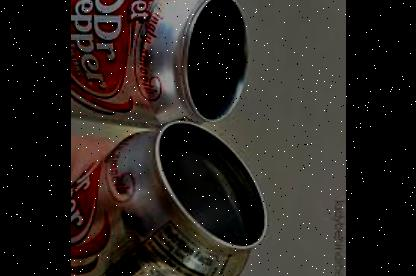Can: (70, 122, 266, 276), (70, 0, 248, 127)
